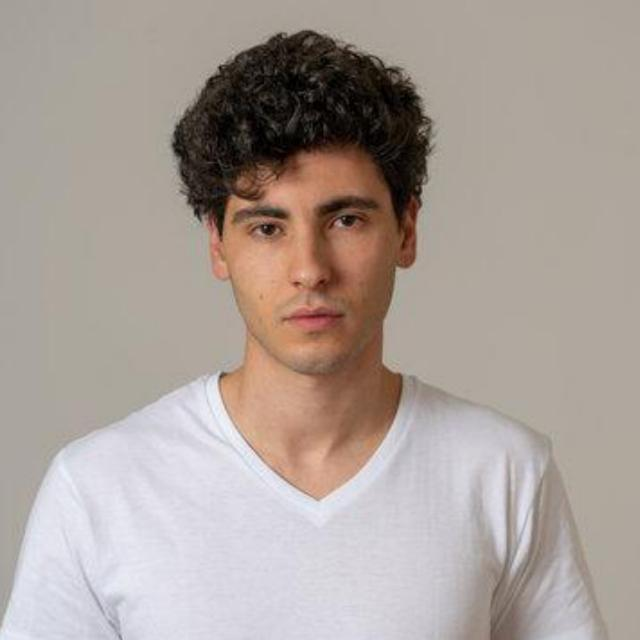Natural: (179, 126, 454, 376)
